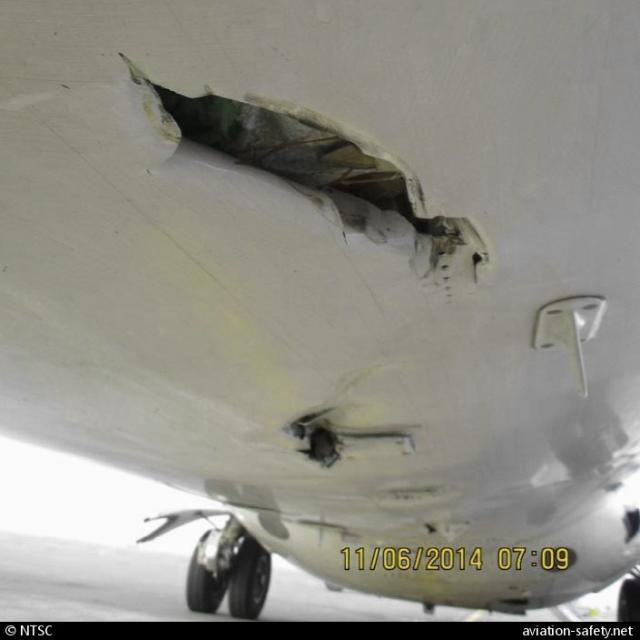crack: (117, 50, 496, 302)
